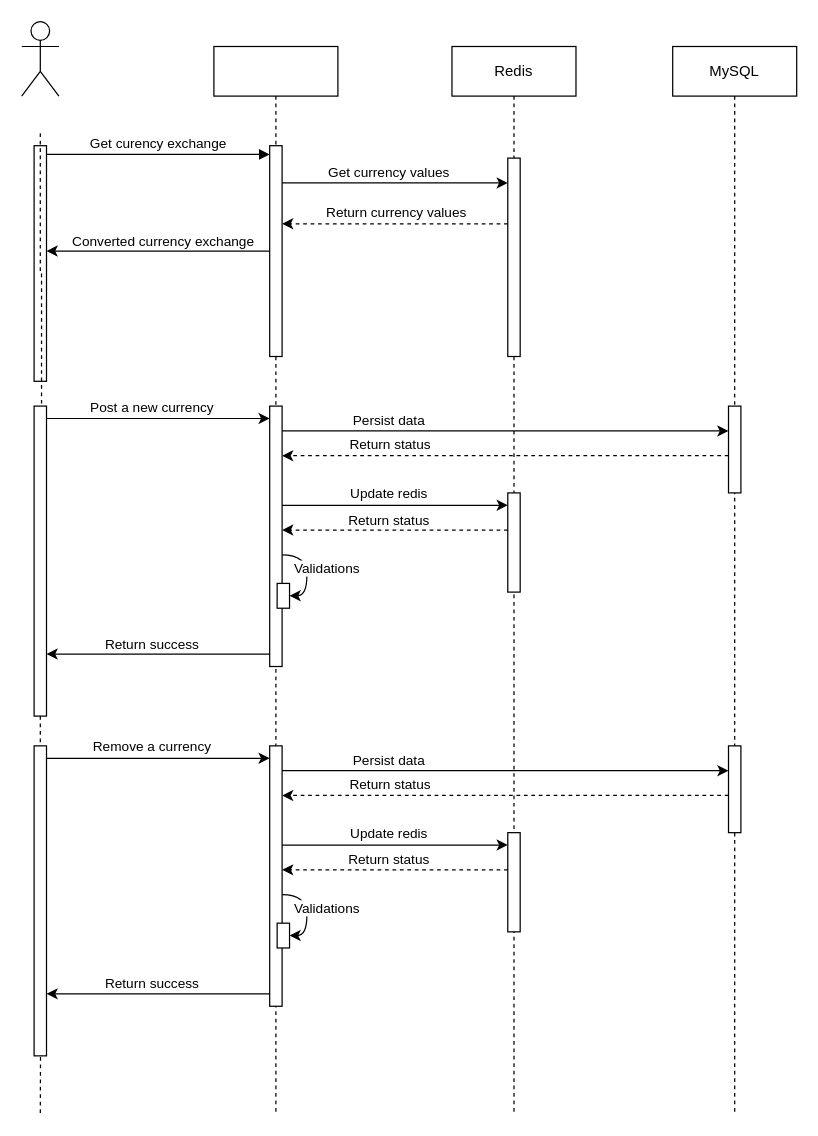
Image size: 818x1136. Some labels were removed from this diagram. The shapes that lost their labels are listed below. From the top down, each one's centre as x and y in pixels, then its label:
At (x=39, y=58): "User".
At (x=275, y=579): "API (backend)".
